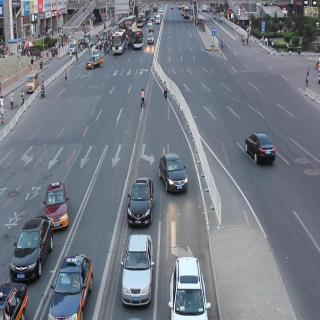BigCar: (130, 23, 144, 55)
Car: (167, 250, 210, 319), (51, 251, 94, 318), (236, 121, 285, 178), (17, 207, 48, 291), (124, 229, 155, 306), (155, 142, 192, 202), (38, 179, 79, 226), (128, 167, 154, 230), (88, 55, 104, 72), (147, 30, 155, 48)
